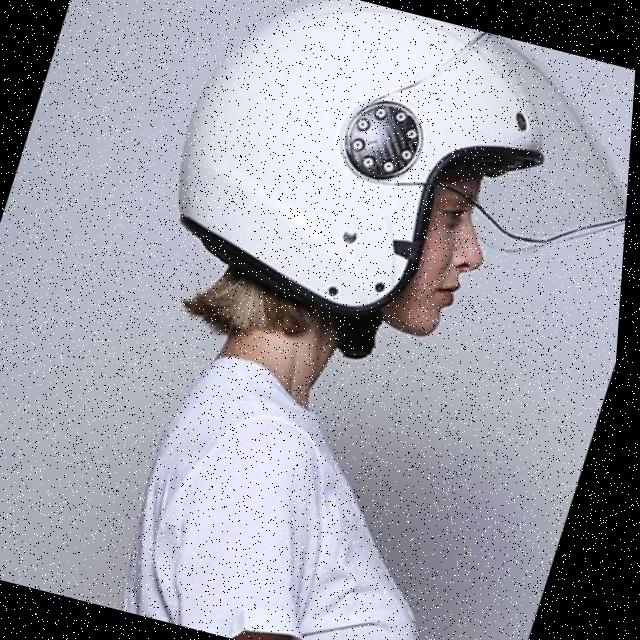helmet: (116, 0, 640, 424)
